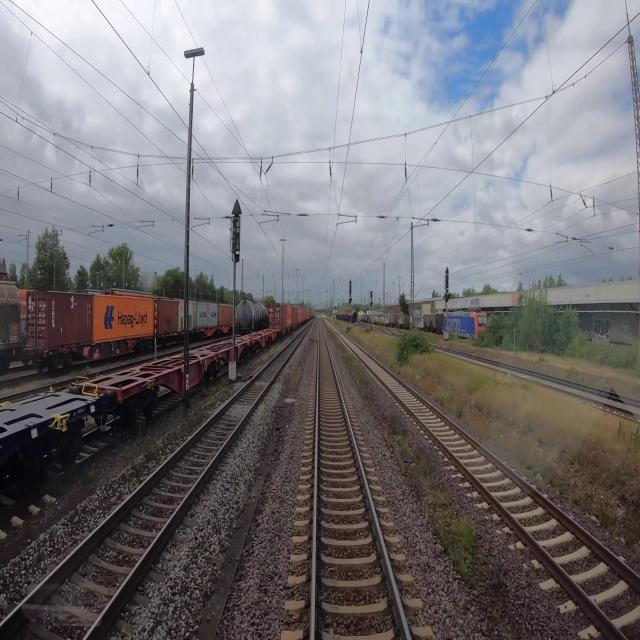Plant: (332, 321, 639, 564), (332, 335, 519, 624), (437, 351, 639, 424), (290, 367, 303, 390)
